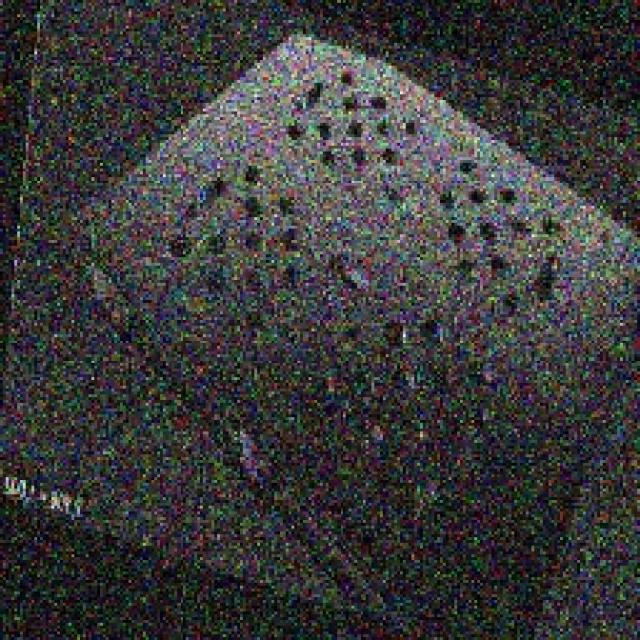igps: (57, 23, 637, 640)
